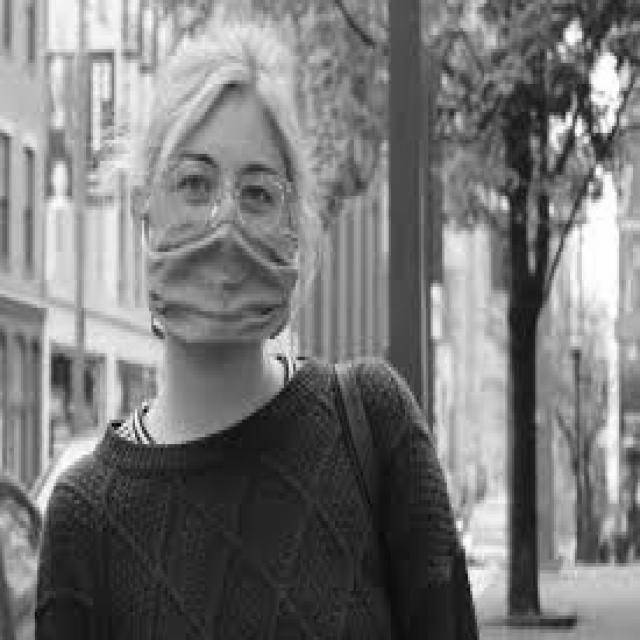fake: (124, 190, 340, 379)
real: (145, 87, 300, 371)
